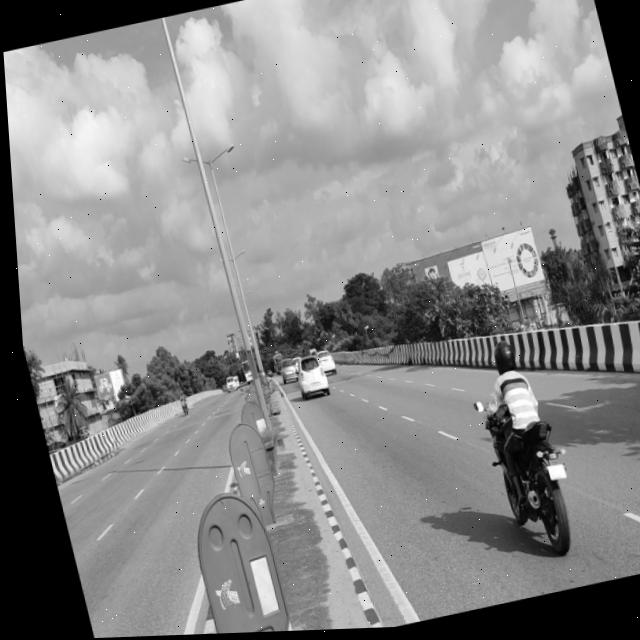bike: (478, 420, 574, 561)
